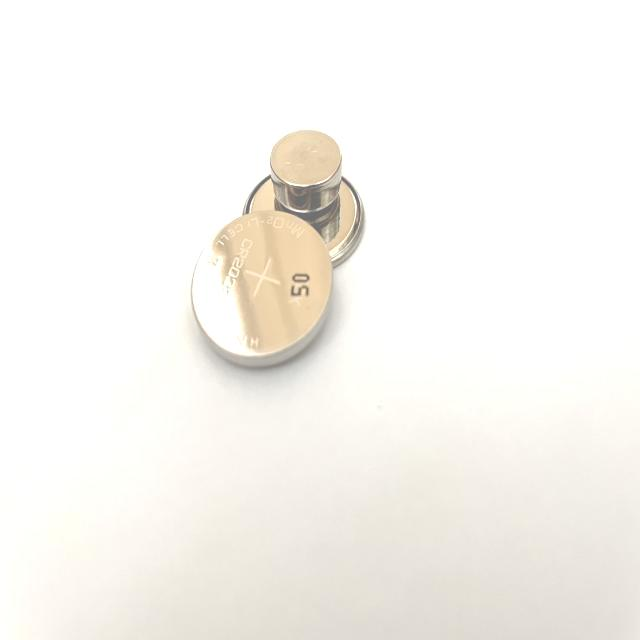COIN: (188, 210, 334, 374), (240, 168, 367, 269), (266, 127, 348, 214)
